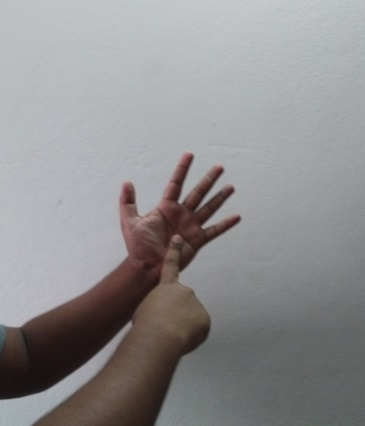oo: (117, 150, 243, 352)
